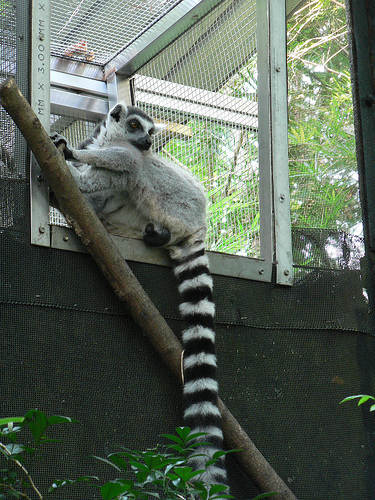cat: (50, 101, 228, 498)
